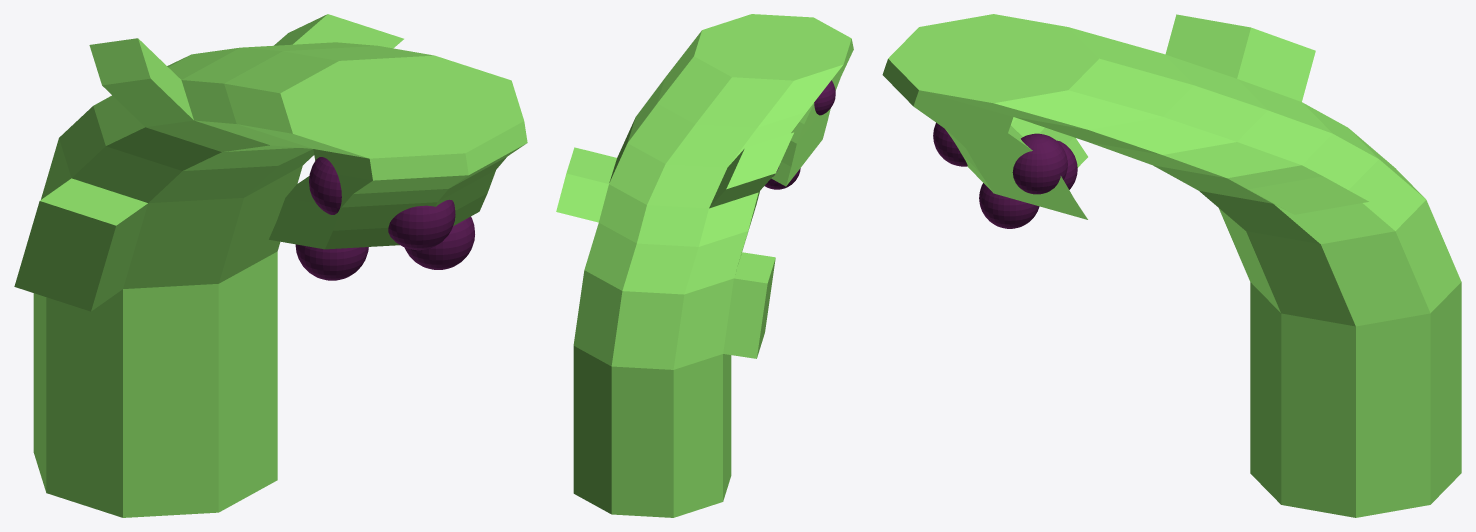
The model's file is nightshade.fbx.
3 renders of one model, left to right at view 1: azimuth 30°, elevation 25°; view 2: azimuth 150°, elevation 25°; view 3: azimuth 270°, elevation 25°, orthographic. The views are drawn at different scales.
Visible parts, largest first — view 1: Cylinder, Sphere.002, Sphere, Sphere.001, Sphere.004; view 2: Cylinder, Sphere.004; view 3: Cylinder, Sphere.003, Sphere.001, Sphere.002.
Boxes of the visible parts, x1,y1,x2,y2 form: Cylinder: (14,14,527,517); Sphere.002: (388,199,455,250); Sphere: (295,244,368,280); Sphere.001: (404,216,474,269); Sphere.004: (309,157,341,214); Cylinder: (556,14,853,517); Sphere.004: (814,80,835,115); Cylinder: (882,14,1461,517); Sphere.003: (1012,133,1067,194); Sphere.001: (979,183,1039,228); Sphere.002: (933,122,967,166).
Bounding box in the file's own units: 1.38 × 2 × 2.46.
